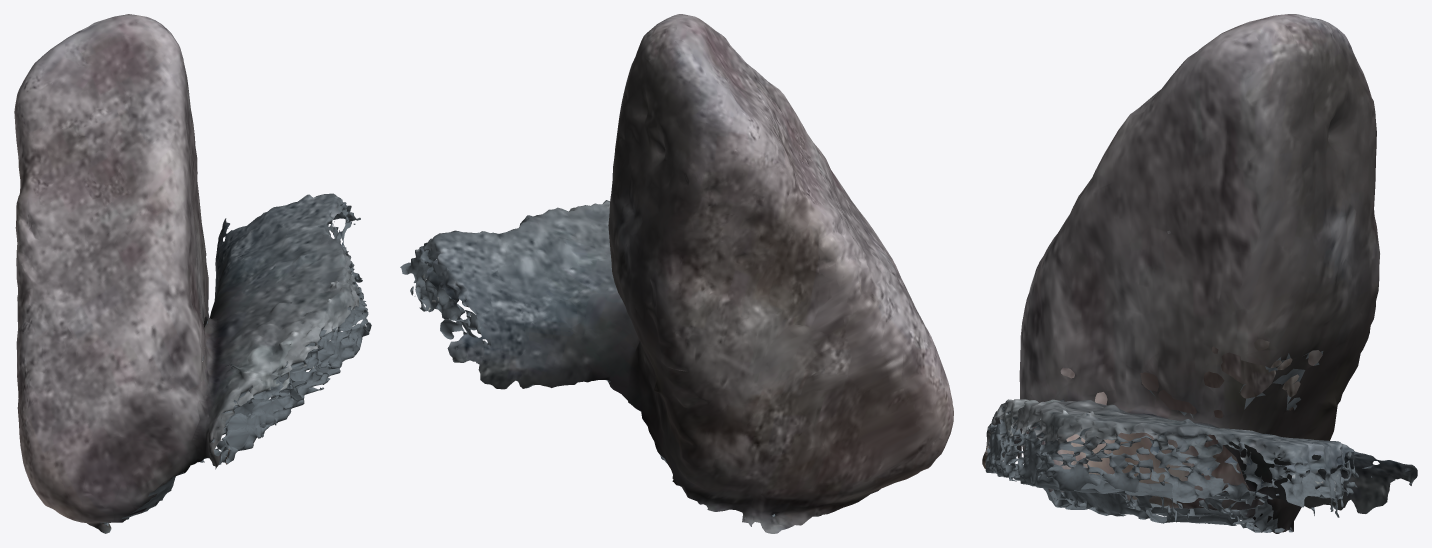
The model's file is mesh_lowpoly.obj.
The picture shows the model from 3 angles, left to right: view 1: azimuth 30°, elevation 25°; view 2: azimuth 150°, elevation 25°; view 3: azimuth 270°, elevation 25°; orthographic projection. The views are drawn at different scales.
Bounding box in the file's own units: 0.8288 × 0.843 × 0.5988.
Materials: 4 (4 with a texture image).
